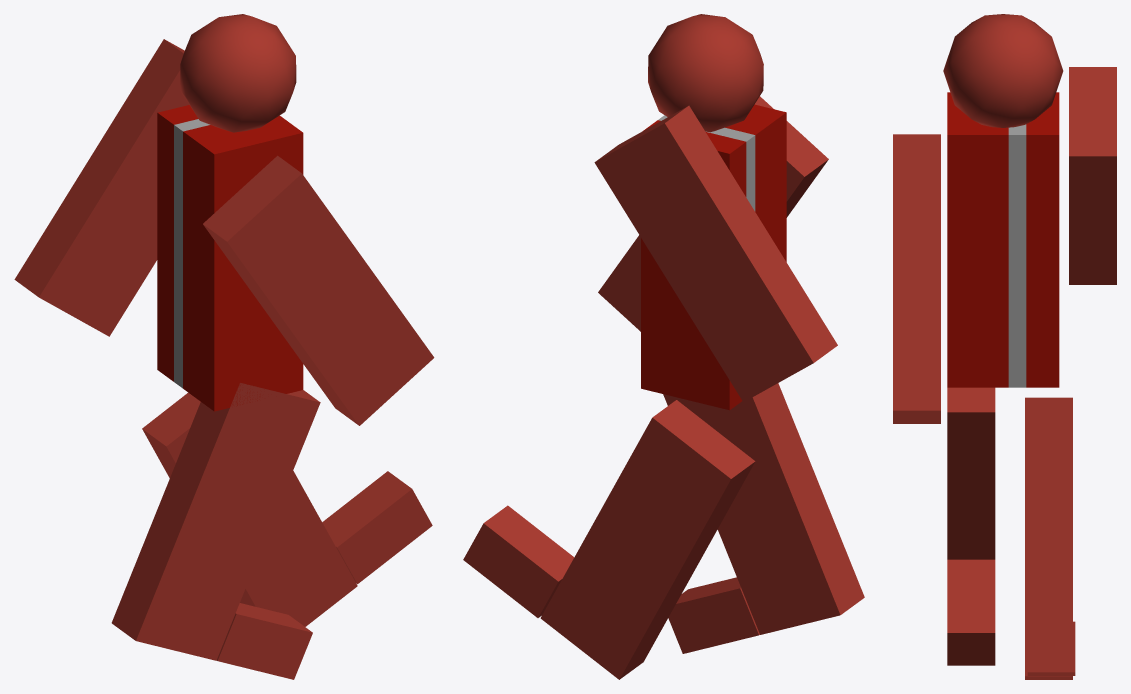
File: player_000001.obj
3 renders of one model, left to right at view 1: azimuth 30°, elevation 25°; view 2: azimuth 150°, elevation 25°; view 3: azimuth 270°, elevation 25°, orthographic.
Parts seen in each view (by area): view 1: Cube.010, Cube.007, Cube.013, Cube.012, Cube.008, Icosphere.001, Cube.009, Cube.011; view 2: Cube.012, Cube.008, Cube.010, Cube.007, Icosphere.001, Cube.009, Cube.011, Cube.013; view 3: Cube.007, Cube.013, Cube.008, Icosphere.001, Cube.012, Cube.010, Cube.011, Cube.009.
Part boxes in pixels (box(x1,y1,x2,y2)): Cube.010: box(111, 383, 320, 660); Cube.007: box(157, 105, 303, 411); Cube.013: box(203, 155, 434, 425); Cube.012: box(14, 39, 189, 336); Cube.008: box(142, 392, 357, 626); Icosphere.001: box(180, 14, 296, 132); Cube.009: box(322, 471, 432, 584); Cube.011: box(216, 603, 312, 679); Cube.012: box(594, 105, 837, 402); Cube.008: box(540, 400, 755, 679); Cube.010: box(663, 383, 864, 634); Cube.007: box(641, 104, 786, 410); Icosphere.001: box(648, 14, 763, 132); Cube.009: box(463, 505, 574, 617); Cube.011: box(668, 577, 759, 653); Cube.013: box(598, 96, 828, 331); Cube.007: box(947, 92, 1059, 387); Cube.013: box(893, 134, 940, 423); Cube.008: box(1025, 397, 1072, 679); Icosphere.001: box(943, 14, 1063, 127); Cube.012: box(1069, 67, 1116, 284); Cube.010: box(947, 387, 995, 559); Cube.011: box(947, 559, 995, 665); Cube.009: box(1027, 621, 1075, 675).
Size of the model in its own units: 1.73 by 2.87 by 0.9137.
